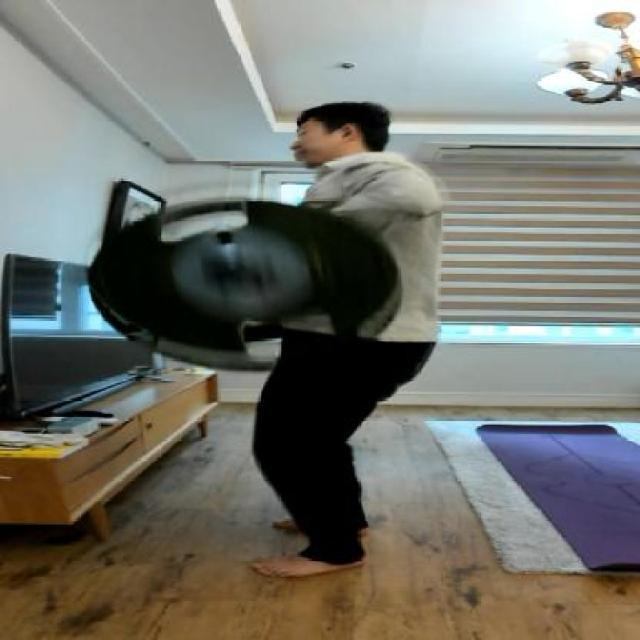barbell: (78, 194, 418, 368)
